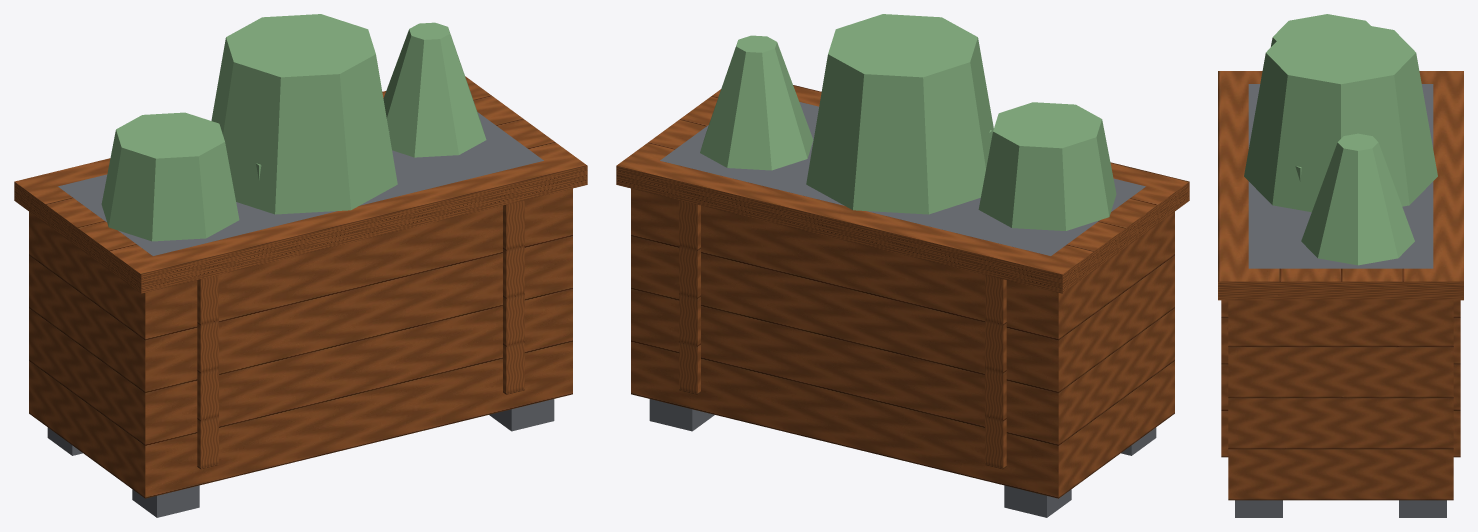
Rendered from cruise-ship-deck-and-lounge-cruise-ship-deck-and-loung-1ee219cf__38439.glb.
The picture shows the model from 3 angles, left to right: view 1: azimuth 30°, elevation 25°; view 2: azimuth 150°, elevation 25°; view 3: azimuth 270°, elevation 25°; orthographic projection. The views are drawn at different scales.
Visible parts, largest first — view 1: cruise-ship-deck-and-lounge-planter-box; view 2: cruise-ship-deck-and-lounge-planter-box; view 3: cruise-ship-deck-and-lounge-planter-box.
Part boxes in pixels (box(x1,y1,x2,y2)): cruise-ship-deck-and-lounge-planter-box: box(14, 14, 587, 517); cruise-ship-deck-and-lounge-planter-box: box(616, 14, 1189, 517); cruise-ship-deck-and-lounge-planter-box: box(1218, 14, 1463, 517).
Size of the model in its own units: 1.46 by 1.2 by 0.7199.
Materials: 3 (1 with a texture image).
